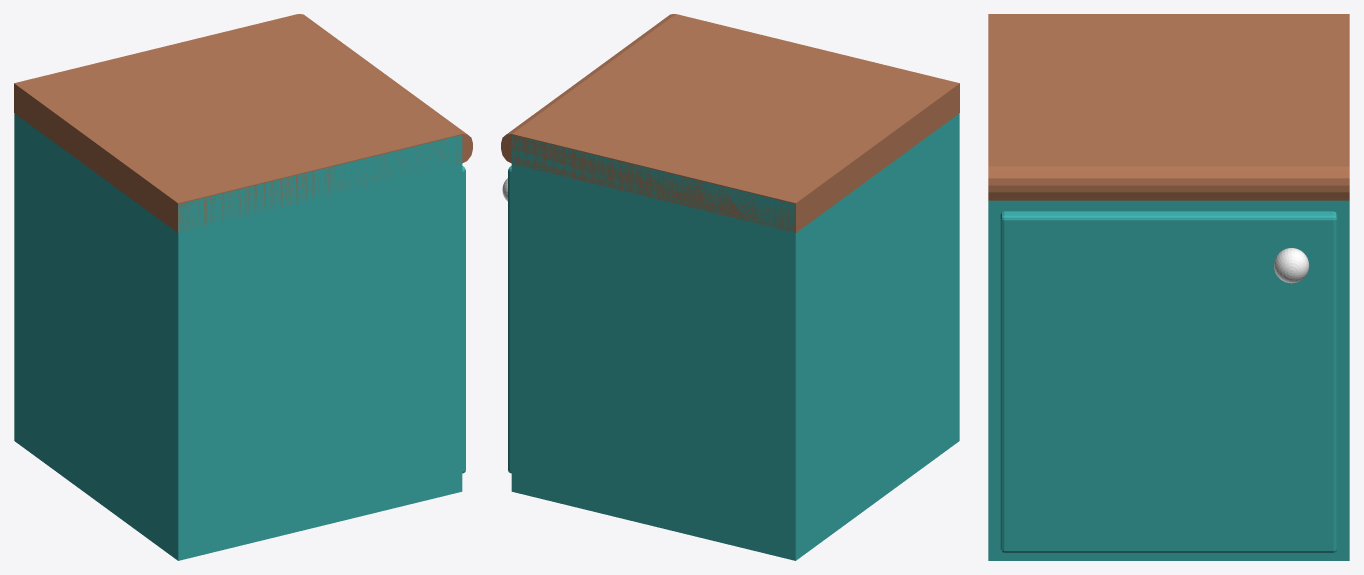
Rendered from EncimeraBase.fbx.
3 views of the same model, side by side, from view 1: azimuth 30°, elevation 25°; view 2: azimuth 150°, elevation 25°; view 3: azimuth 270°, elevation 25° (orthographic). The views are drawn at different scales.
Parts seen in each view (by area): view 1: Cube, Cube.001, Cube.002; view 2: Cube, Cube.001, Cube.002; view 3: Cube.002, Cube.001, Cube, Sphere.
Part boxes in pixels (x1,y1,x2,y2): Cube: (14, 113, 462, 560); Cube.001: (14, 14, 472, 232); Cube.002: (462, 166, 465, 473); Cube: (511, 113, 959, 560); Cube.001: (501, 14, 959, 232); Cube.002: (508, 166, 511, 473); Cube.002: (1000, 211, 1337, 552); Cube.001: (988, 14, 1349, 200); Cube: (988, 200, 1349, 560); Sphere: (1274, 248, 1309, 283).
Bounding box in the file's own units: 50 × 55.92 × 60.16.
1 material, 1 textured.
